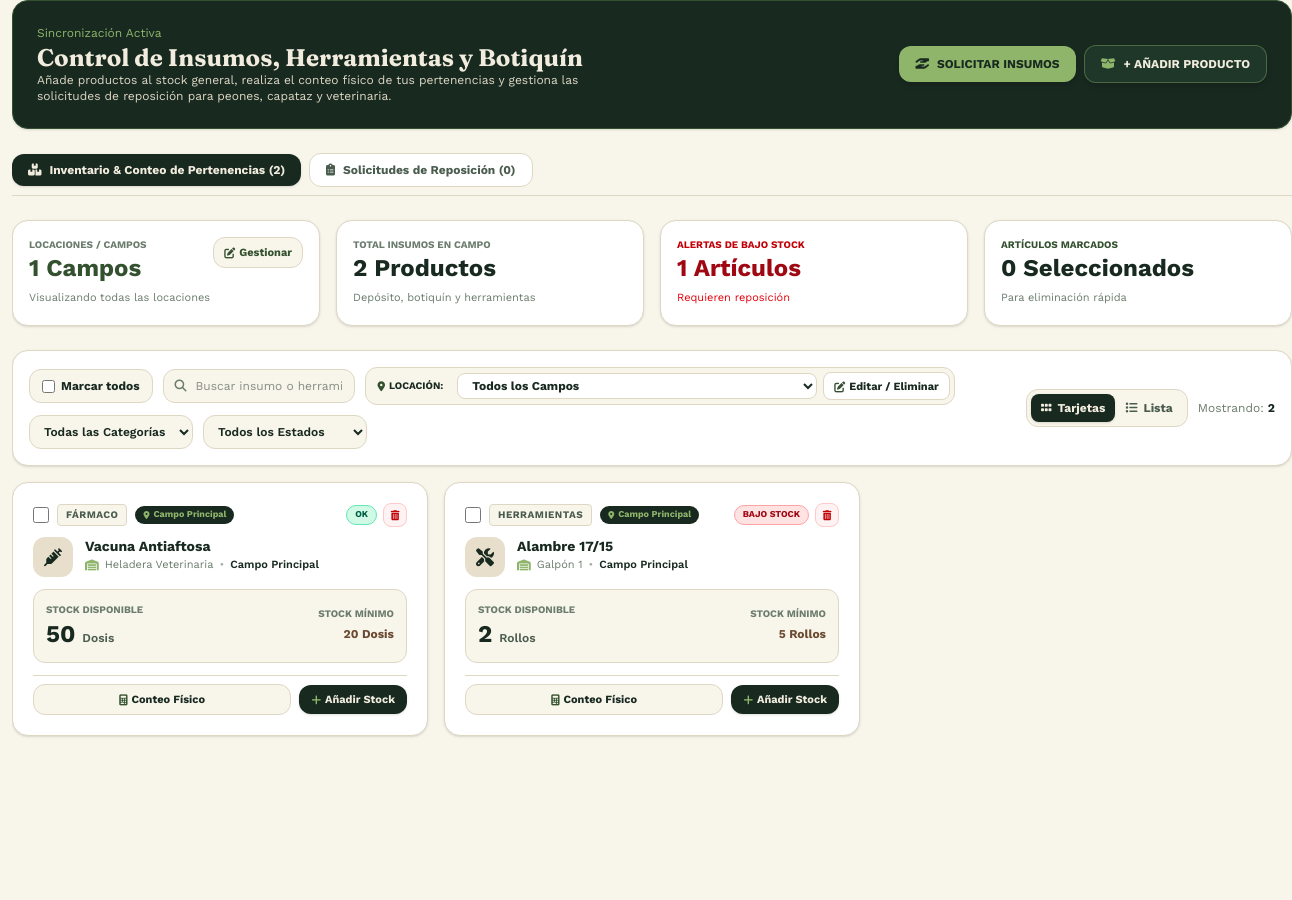
Test case: Vista de Inventario e Insumos (InsumosView.jsx) › alterna correctamente entre vista de Tarjetas y vista de Lista
Expected: the heading "Vacuna Antiaftosa" is shown, [85,538,210,554]
Note: Cambiar a vista de Lista
Click the button "Lista".
click(1149, 408)  # box [1115,394,1183,422]
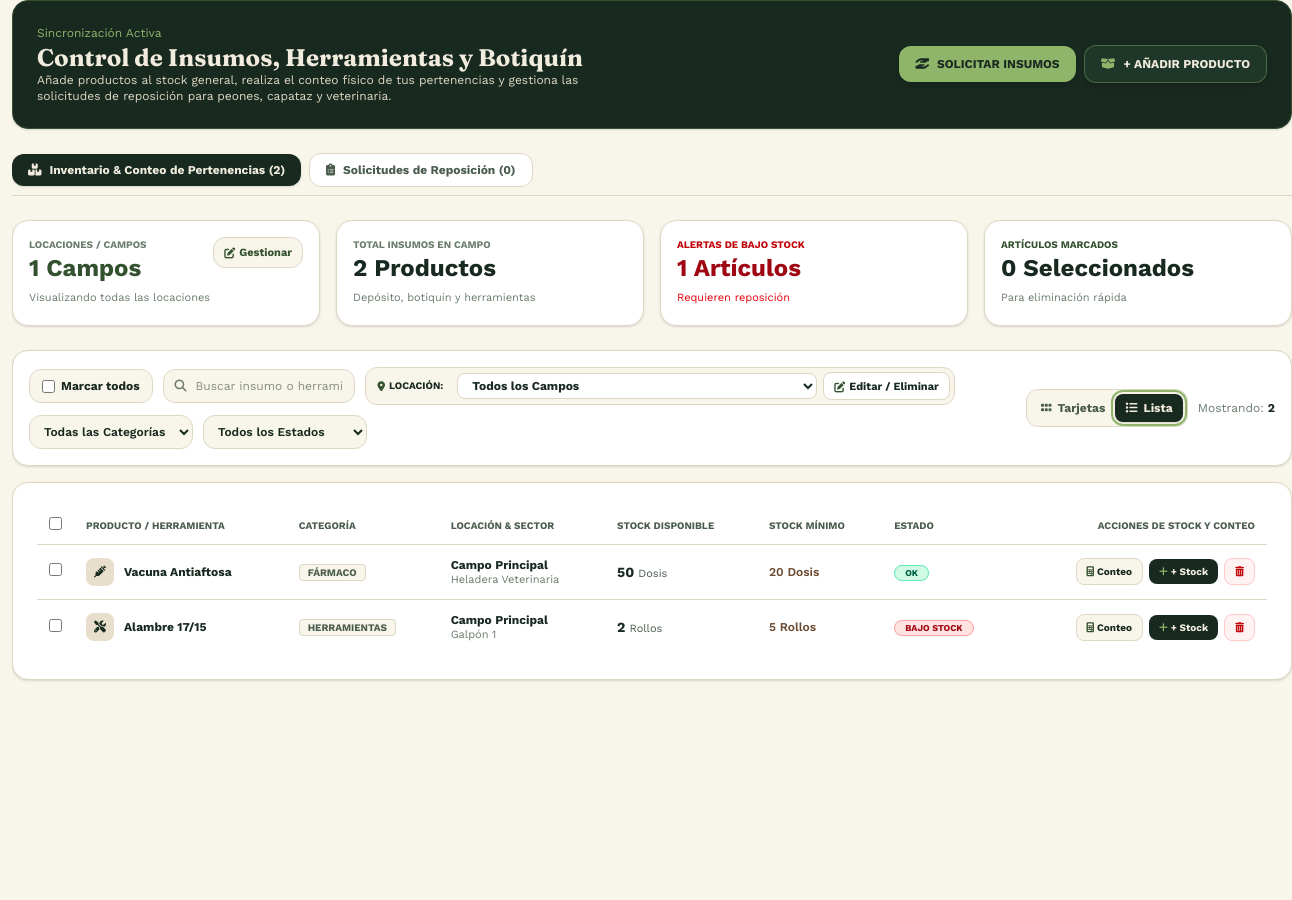
Now the table is shown, box [37,507,1267,655]
Now the column heading "Producto / Herramienta" is shown, box [74,507,287,544]
Note: Cambiar nuevamente a vista de Tarjetas
Click the button "Tarjetas".
click(1073, 408)  # box [1031,394,1116,422]
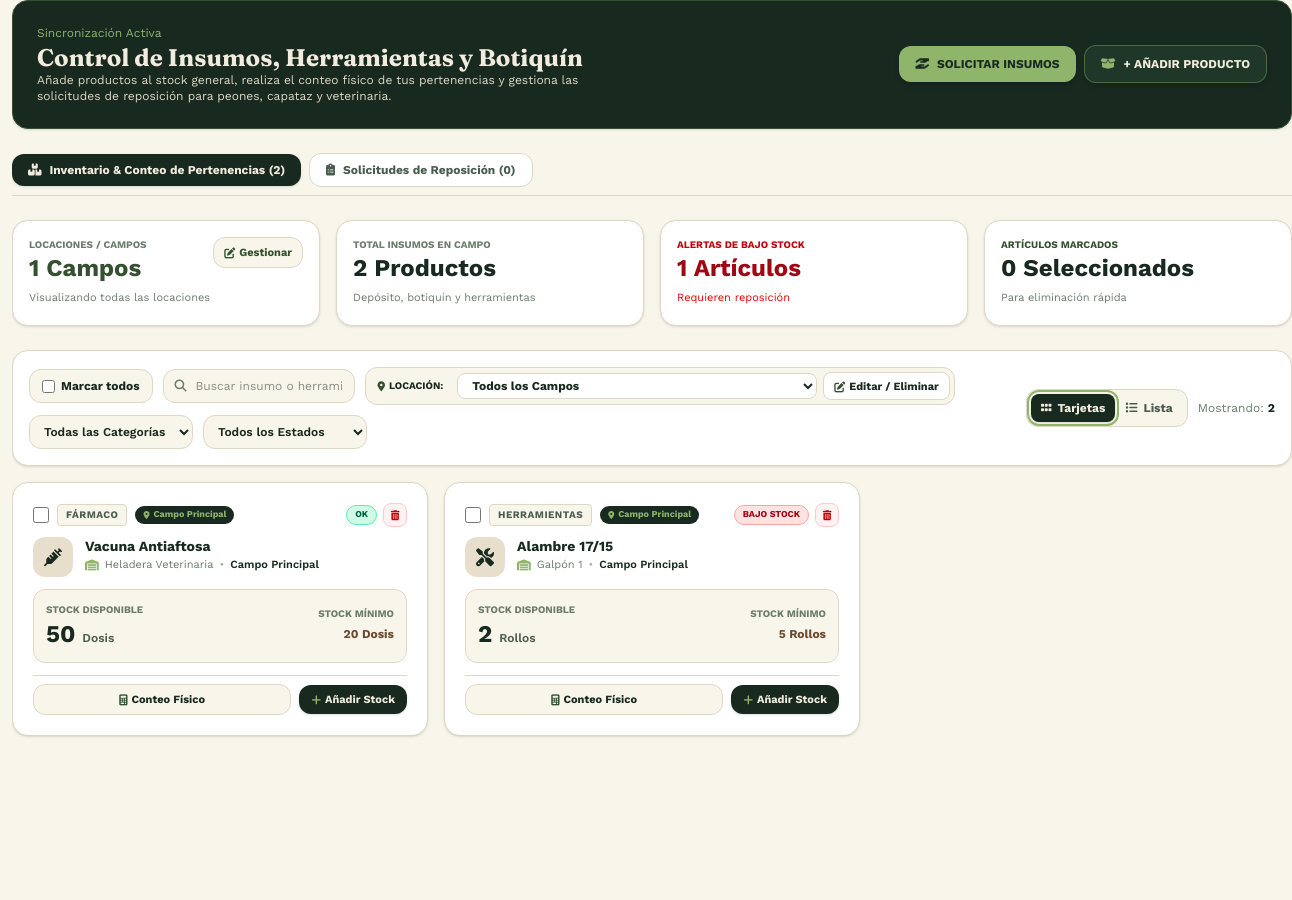
Now the table is gone
